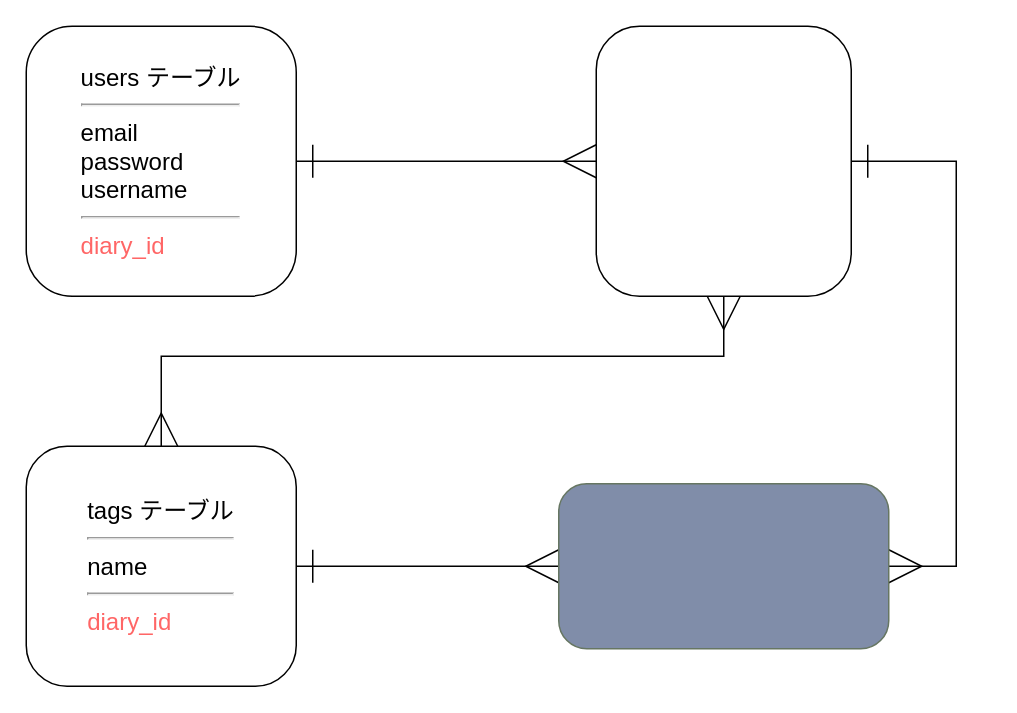
Some shapes in this 1017 by 713 pixel diagram are drawn without their labels. The centre of each missing label's shape, as x and y in pixels:
"diaries テーブル content date user_id tag_id" belongs at [723,160].
"diary_tag_relation テーブル diary_id tag_id" belongs at [723,565].
